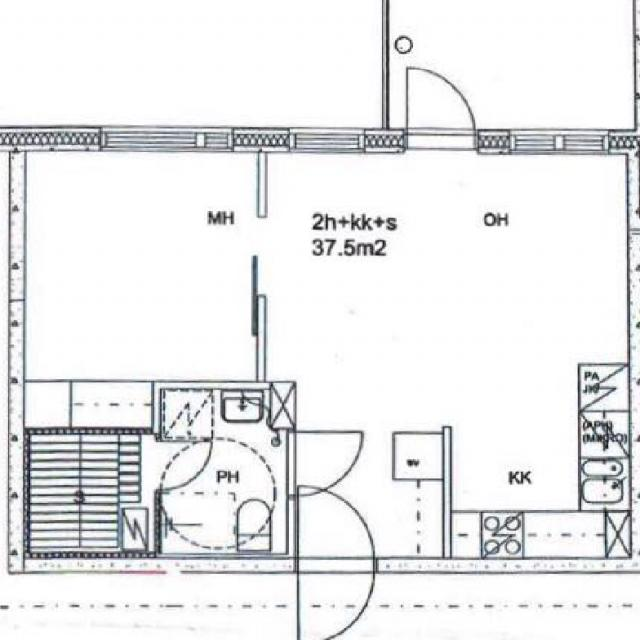door: (299, 486, 374, 571), (299, 557, 374, 640), (407, 64, 475, 152), (286, 432, 362, 495), (154, 441, 212, 490)
